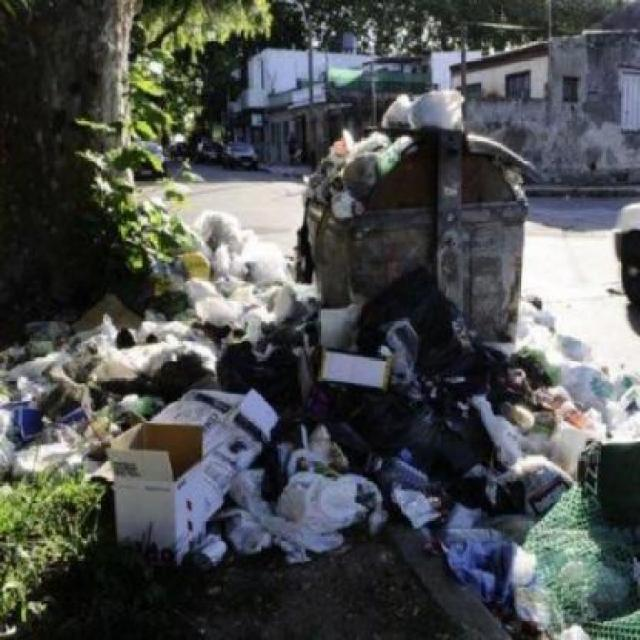garbage: (15, 299, 636, 619), (165, 183, 296, 414), (319, 119, 456, 226), (386, 83, 497, 127)
